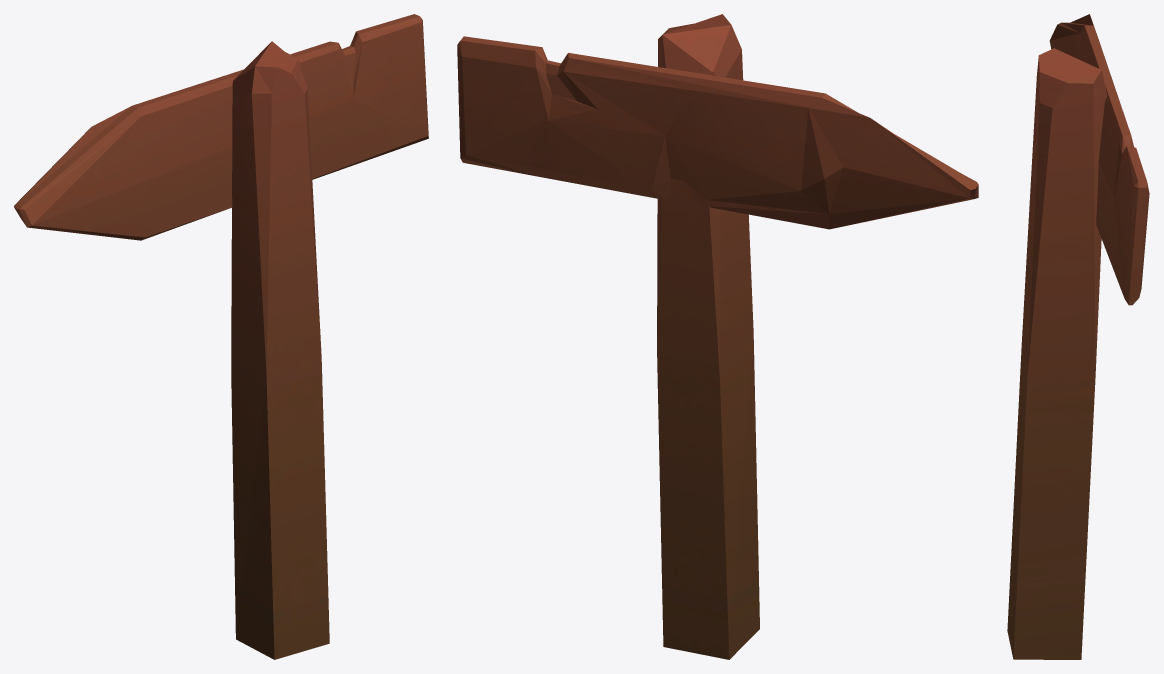
3 renders of one model, left to right at view 1: azimuth 30°, elevation 25°; view 2: azimuth 150°, elevation 25°; view 3: azimuth 270°, elevation 25°, orthographic. The views are drawn at different scales.
Visible parts, largest first — view 1: Signpost2; view 2: Signpost2; view 3: Signpost2.
Boxes of the visible parts, bbox=[...] form: Signpost2: bbox=[14, 14, 428, 659]; Signpost2: bbox=[457, 14, 978, 659]; Signpost2: bbox=[1007, 14, 1149, 659].
Bounding box in the file's own units: 1.38 × 1.72 × 0.376.
1 material, 1 textured.
